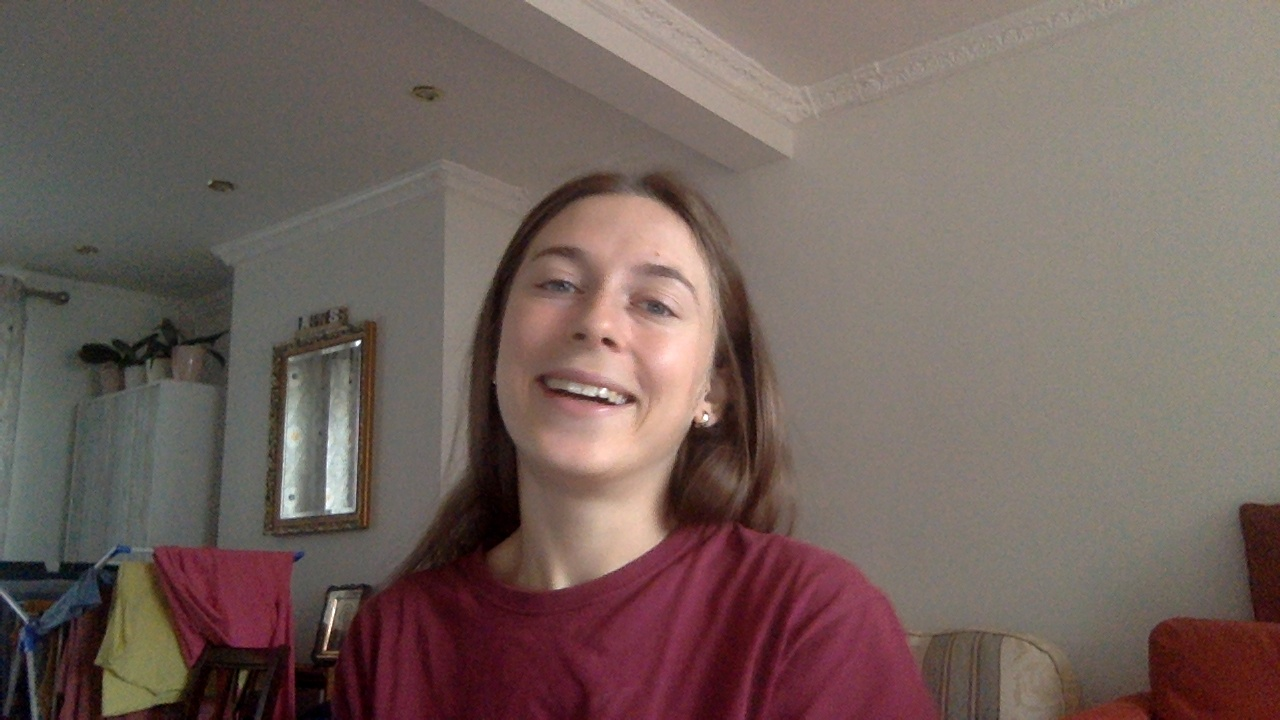smile: (529, 367, 648, 421)
